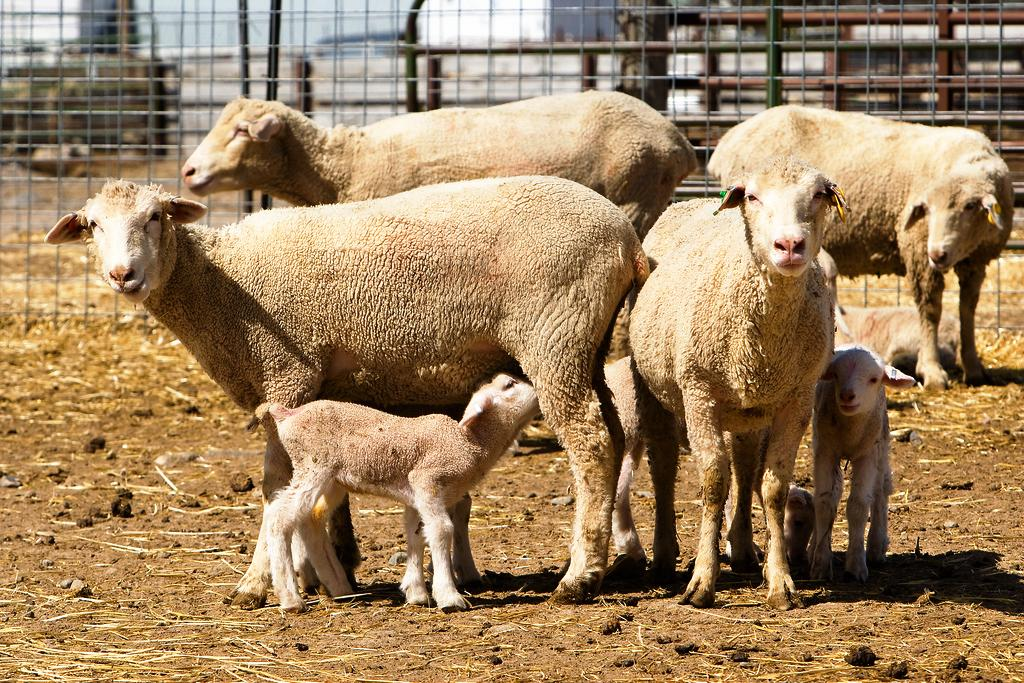Sheep: (42, 176, 648, 613), (629, 166, 848, 612), (181, 88, 701, 274), (706, 103, 1019, 387), (810, 341, 923, 583)
